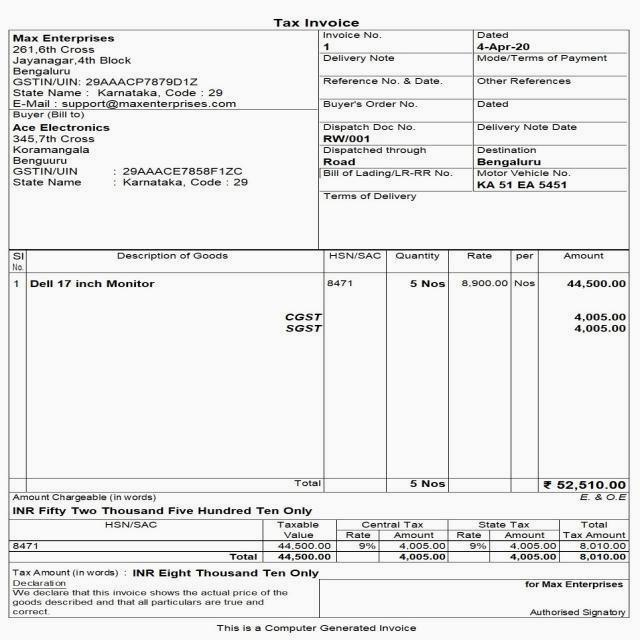paragraph: (11, 111, 254, 205), (476, 54, 621, 190), (319, 53, 466, 185), (9, 31, 239, 109), (271, 309, 635, 352), (11, 578, 293, 617), (9, 492, 315, 520), (283, 475, 629, 491), (8, 562, 328, 578), (212, 618, 421, 636), (524, 602, 634, 626), (522, 577, 629, 594), (320, 192, 419, 209), (320, 30, 393, 52), (267, 12, 362, 28), (474, 26, 534, 50)
table: (9, 247, 635, 302), (7, 517, 631, 564)
